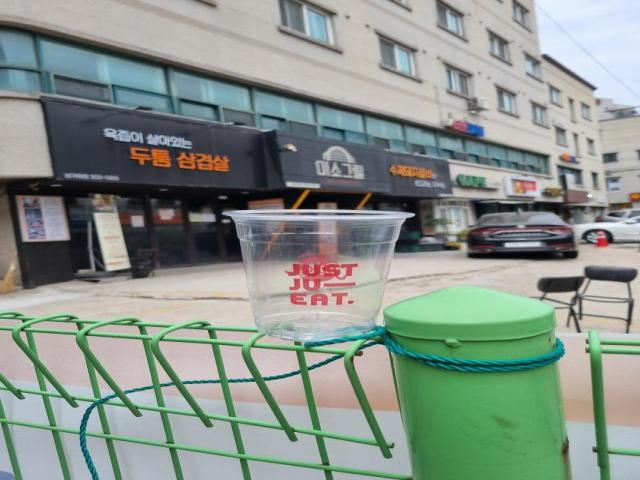cup: (215, 202, 433, 344)
